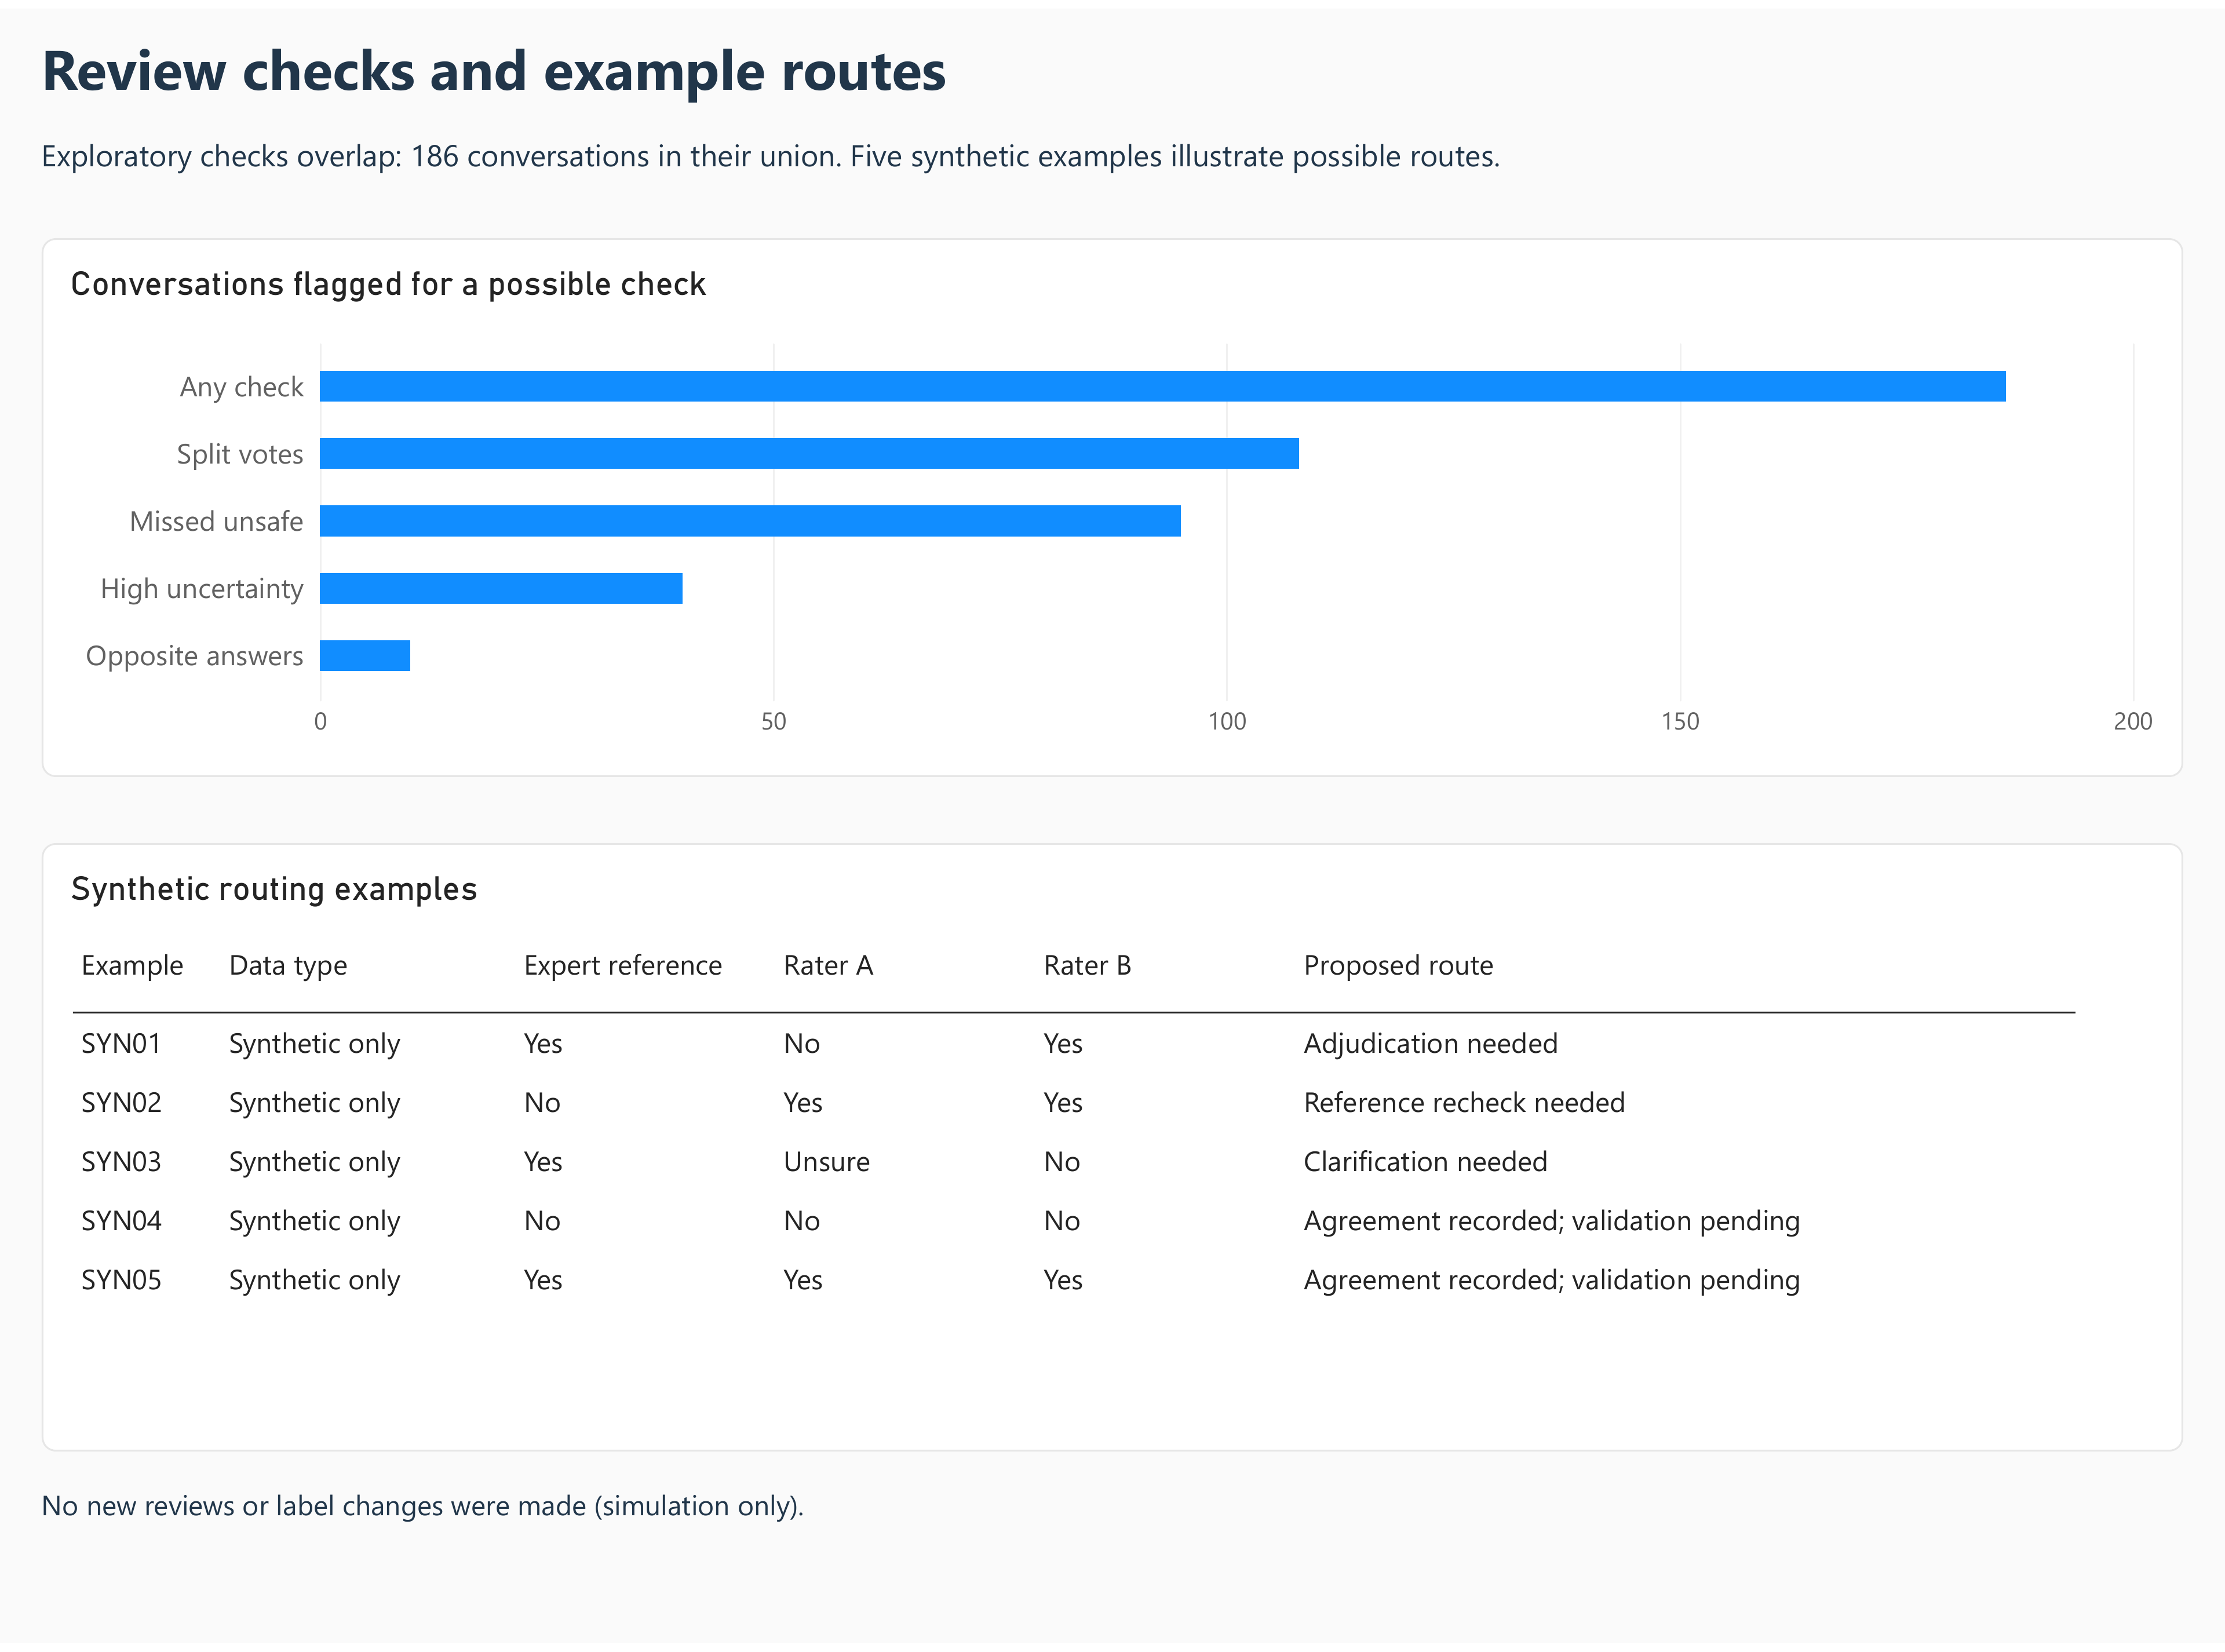

The dashboard page shown, as its layout file describes it:
{"tool":"powerbi","page":{"name":"06 Review and Calibration","canvas":[1280,940],"ordinal":5},"visuals":[{"type":"clusteredBarChart","title":"Conversations flagged for a possible check","fields":{"Category":["qaReviewSignals.Screen display display display"],"Y":["qaReviewSignals.Screen display display display Items"]},"box":[24,132,1232,310],"z":0},{"type":"tableEx","title":"Synthetic routing examples","fields":{"Values":["qaCalibration.CaseID","qaCalibration.DataKind","qaCalibration.Reference","qaCalibration.HypotheticalA","qaCalibration.HypotheticalB","qaCalibration.Route display"]},"box":[24,480,1232,350],"z":2},{"type":"textbox","box":[24,12,1232,58],"z":8000},{"type":"textbox","box":[24,72,1232,48],"z":8000},{"type":"textbox","box":[24,850,1232,50],"z":8000}]}

Visuals, with their boxes in screenshot pixels (x1, y1, x2, y2), scaled from the page's 1280x940 canvas onto the 2225x1652 screenshot:
"Conversations flagged for a possible check" clusteredBarChart: detection(42, 232, 2183, 777)
"Synthetic routing examples" tableEx: detection(42, 844, 2183, 1458)
textbox: detection(42, 21, 2183, 123)
textbox: detection(42, 126, 2183, 211)
textbox: detection(42, 1494, 2183, 1582)
